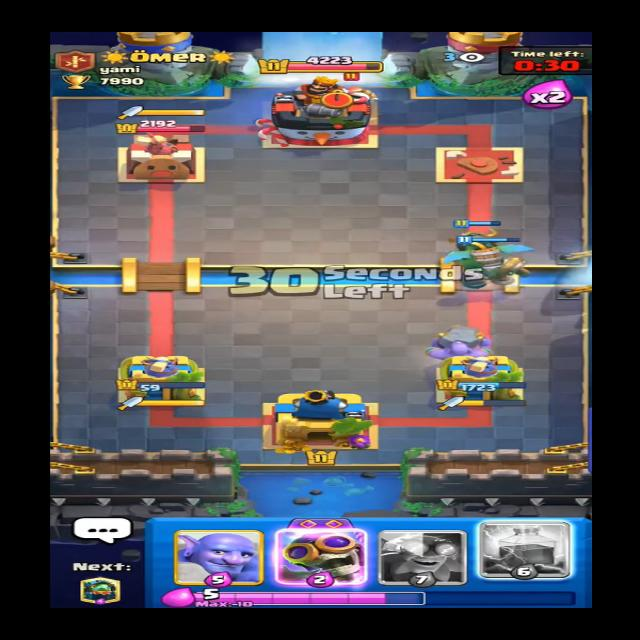wizard: (327, 74, 389, 108)
